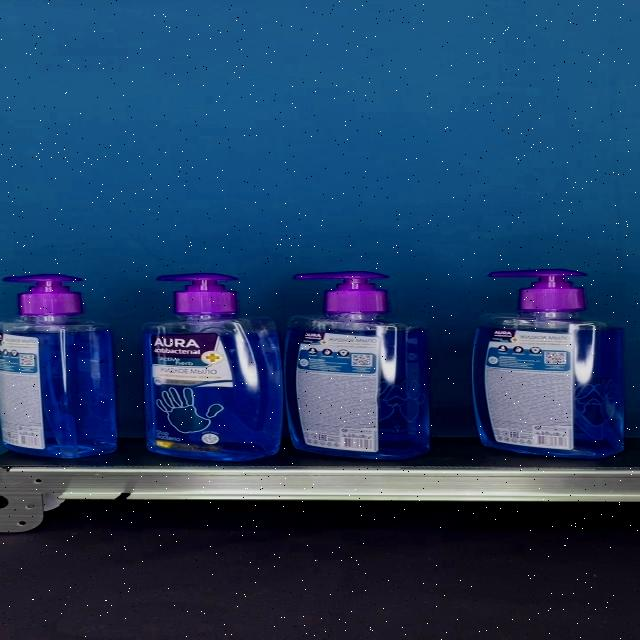Bottle: (472, 269, 624, 459), (283, 271, 431, 459), (141, 272, 284, 460), (0, 274, 118, 460)
Cap: (488, 269, 588, 313), (294, 271, 390, 313), (157, 273, 239, 314), (2, 275, 84, 315)
